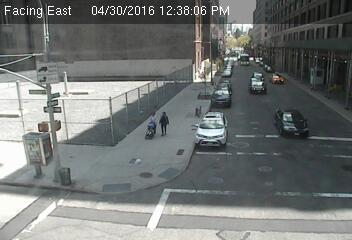neg: (136, 175, 169, 219), (84, 90, 113, 129), (93, 169, 118, 203), (34, 129, 58, 161), (253, 131, 274, 159), (54, 70, 75, 98), (281, 105, 301, 131), (139, 53, 159, 79), (216, 158, 235, 183), (249, 72, 267, 96), (305, 67, 323, 91), (183, 181, 201, 205), (219, 73, 233, 93), (192, 103, 204, 119)
pos: (142, 110, 162, 137), (157, 110, 177, 136)
